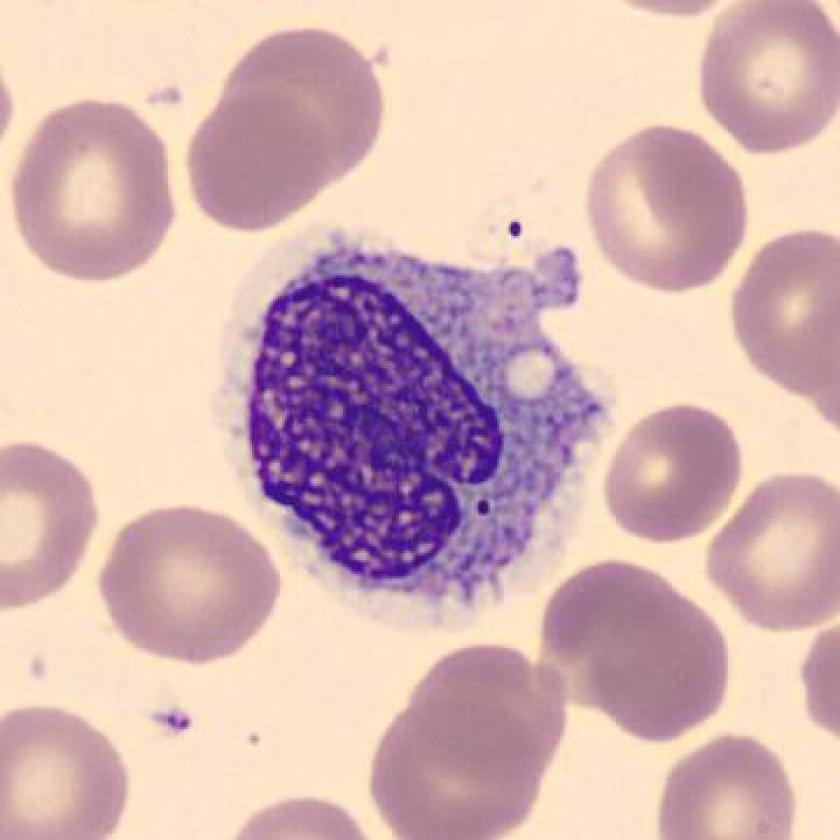monocyte: (197, 200, 643, 651)
